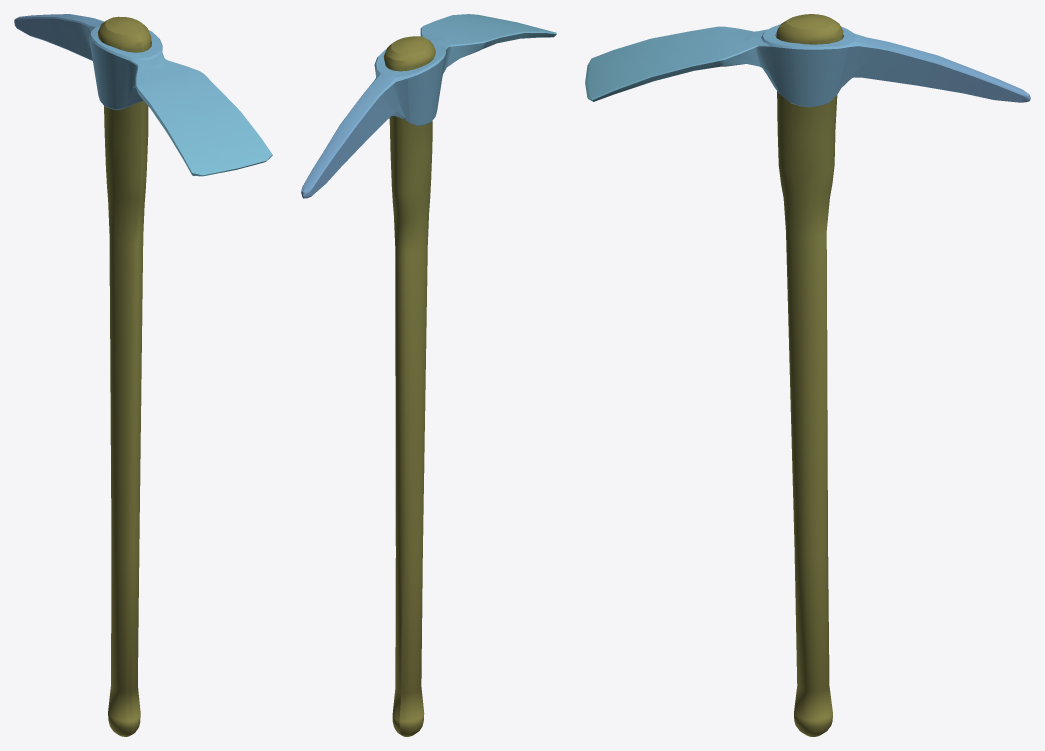
Rendered from 4pickaxe.fbx.
The picture shows the model from 3 angles, left to right: view 1: azimuth 30°, elevation 25°; view 2: azimuth 150°, elevation 25°; view 3: azimuth 270°, elevation 25°; orthographic projection. The views are drawn at different scales.
Visible parts, largest first — view 1: pickaxe4; view 2: pickaxe4; view 3: pickaxe4.
Boxes of the visible parts, x1,y1,x2,y2 form: pickaxe4: (14,14,272,736); pickaxe4: (301,14,556,736); pickaxe4: (585,14,1030,736).
Bounding box in the file's own units: 0.2531 × 2.12 × 1.19.
